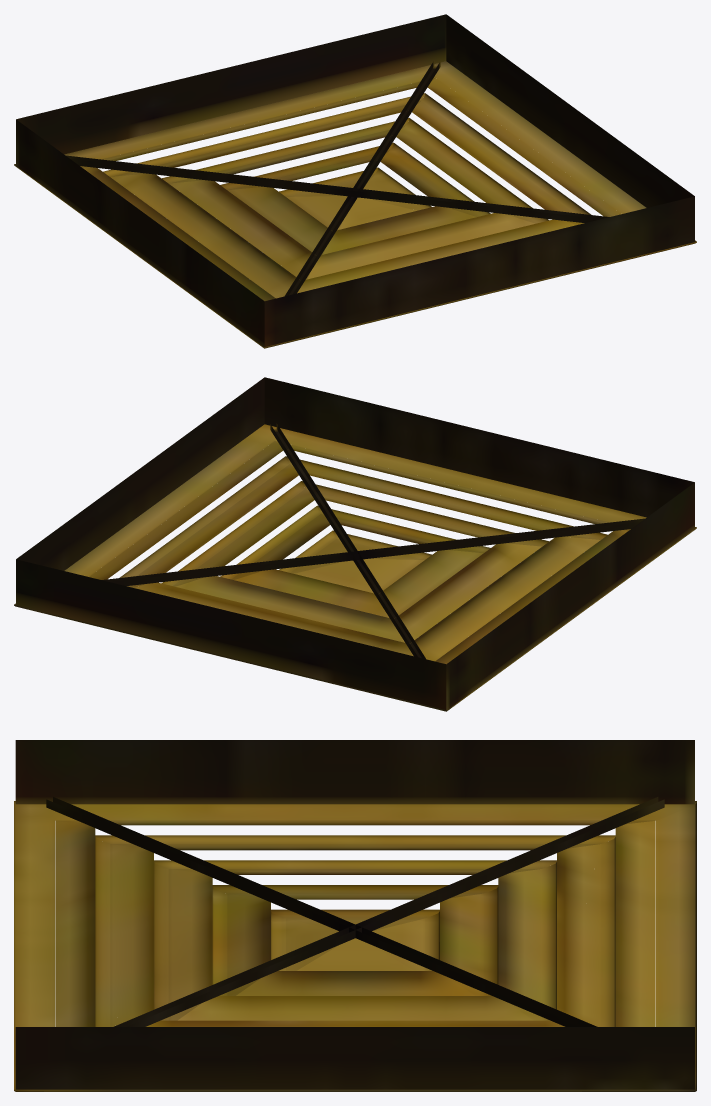
Rendered from vent.glb.
The picture shows the model from 3 angles, top to bottom: view 1: azimuth 30°, elevation 25°; view 2: azimuth 150°, elevation 25°; view 3: azimuth 270°, elevation 25°; orthographic projection. The views are drawn at different scales.
Parts seen in each view (by area): view 1: Object_32.102, Object_32.104, Object_32.103, Object_32.101, Object_32.060, Object_32.086, Object_32.071, Object_32.084, Object_32.095, Object_32.061, Object_32.077, Object_32.062 (+24 smaller); view 2: Object_32.104, Object_32.102, Object_32.103, Object_32.101, Object_32.060, Object_32.086, Object_32.085, Object_32.084, Object_32.097, Object_32.061, Object_32.093, Object_32.062 (+24 smaller); view 3: Object_32.103, Object_32.101, Object_32.060, Object_32.087, Object_32.092, Object_32.069, Object_32.071, Object_32.085, Object_32.075, Object_32.098, Object_32.094, Object_32.064 (+31 smaller).
Part boxes in pixels (box(x1,y1,x2,y2)): Object_32.102: box(264, 196, 694, 346); Object_32.104: box(16, 14, 446, 154); Object_32.103: box(16, 119, 264, 347); Object_32.101: box(446, 14, 694, 207); Object_32.060: box(65, 61, 646, 213); Object_32.086: box(110, 173, 299, 298); Object_32.071: box(307, 213, 534, 279); Object_32.084: box(169, 180, 311, 279); Object_32.095: box(70, 159, 600, 222); Object_32.061: box(427, 78, 621, 216); Object_32.077: box(323, 206, 476, 254); Object_32.062: box(412, 101, 584, 224); Object_32.104: box(16, 559, 446, 709); Object_32.102: box(264, 377, 694, 517); Object_32.103: box(446, 482, 694, 710); Object_32.101: box(16, 377, 264, 570); Object_32.060: box(65, 424, 645, 576); Object_32.086: box(410, 536, 600, 661); Object_32.085: box(175, 576, 403, 642); Object_32.084: box(394, 543, 541, 642); Object_32.097: box(110, 522, 640, 585); Object_32.061: box(89, 441, 283, 579); Object_32.093: box(234, 569, 387, 617); Object_32.062: box(127, 464, 298, 587); Object_32.103: box(15, 740, 694, 804); Object_32.101: box(15, 1027, 694, 1089); Object_32.060: box(15, 804, 695, 1089); Object_32.087: box(55, 821, 95, 1026); Object_32.092: box(615, 821, 655, 1026); Object_32.069: box(178, 996, 532, 1020); Object_32.071: box(168, 869, 212, 1020); Object_32.085: box(498, 869, 542, 1020); Object_32.075: box(236, 971, 474, 995); Object_32.098: box(46, 799, 584, 1026); Object_32.094: box(126, 799, 664, 1026); Object_32.064: box(110, 844, 153, 1026).
Size of the model in its own units: 0.718 by 0.075 by 0.718.
Materials: 1 (1 with a texture image).
